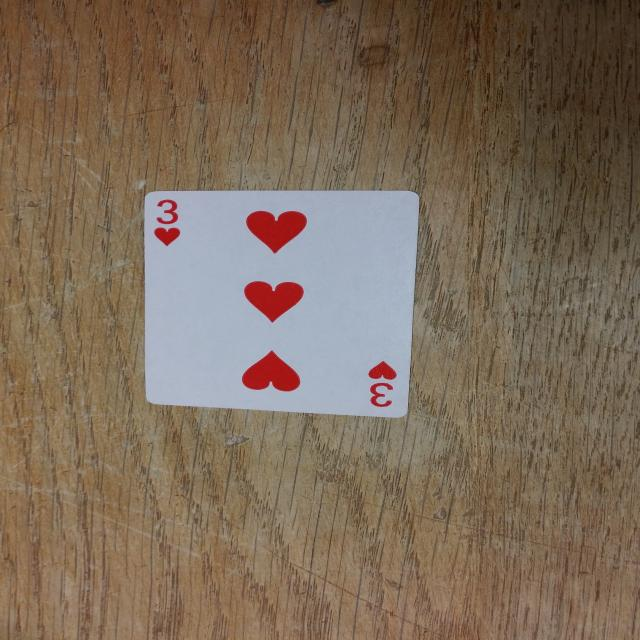3h: (144, 192, 201, 255), (358, 352, 406, 416)
